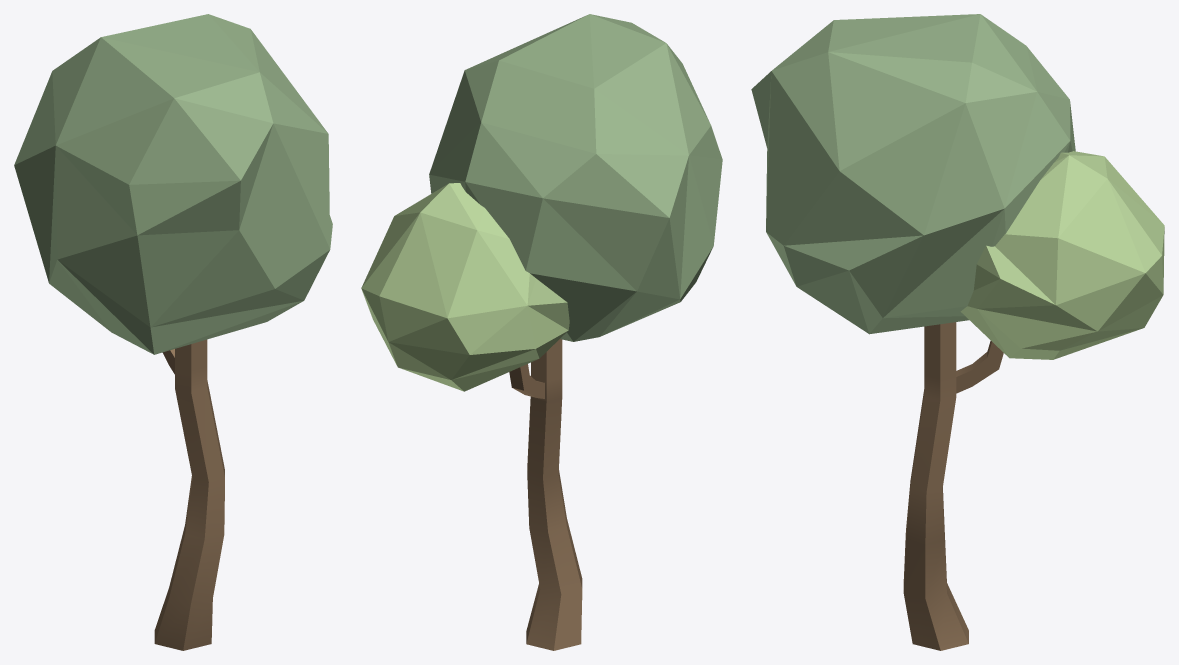
The model's file is tree3.fbx.
3 renders of one model, left to right at view 1: azimuth 30°, elevation 25°; view 2: azimuth 150°, elevation 25°; view 3: azimuth 270°, elevation 25°, orthographic. The views are drawn at different scales.
Visible parts, largest first — view 1: Leaves, Branch; view 2: Leaves, Leaves21, Branch; view 3: Leaves, Leaves21, Branch.
Part boxes in pixels (x1,y1,x2,y2): Leaves: (14,14,332,354); Branch: (154,339,224,650); Leaves: (429,14,722,341); Leaves21: (361,183,569,391); Branch: (509,339,582,650); Leaves: (751,14,1075,334); Leaves21: (960,151,1164,359); Branch: (903,322,1003,650).
Bounding box in the file's own units: 5.8 × 12.41 × 7.82.
